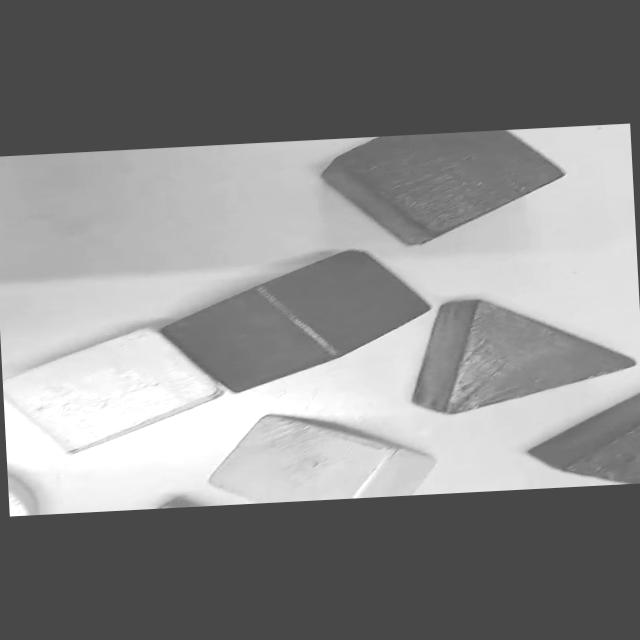bcube: (322, 131, 566, 245)
rcube: (161, 250, 431, 393)
rtriangle: (413, 299, 636, 414)
ycube: (3, 328, 222, 453)
ytriangle: (209, 416, 436, 503)
